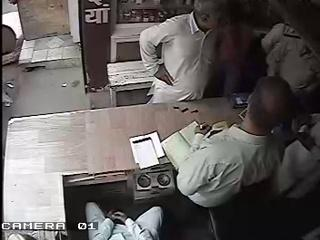Normal: (175, 76, 316, 240), (138, 0, 230, 104), (85, 202, 163, 240)
